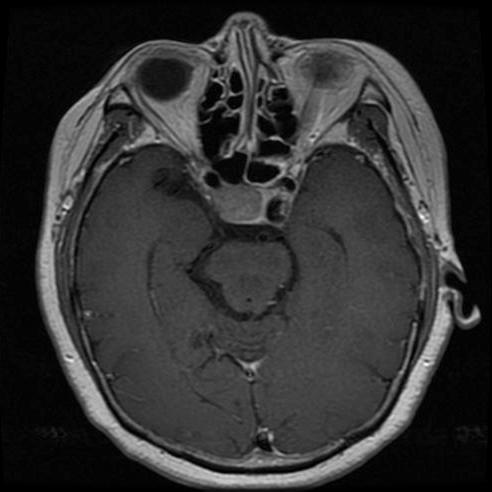Tumour-Pituitary: (201, 171, 301, 231)
